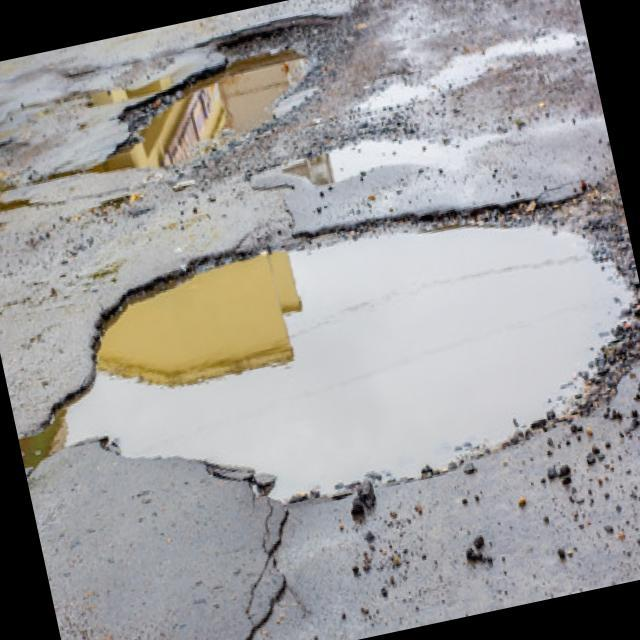Pothole: (42, 167, 640, 523), (74, 8, 375, 195)
